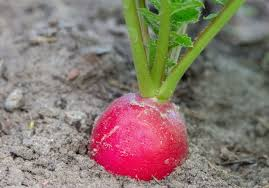raddish: (76, 67, 220, 180)
